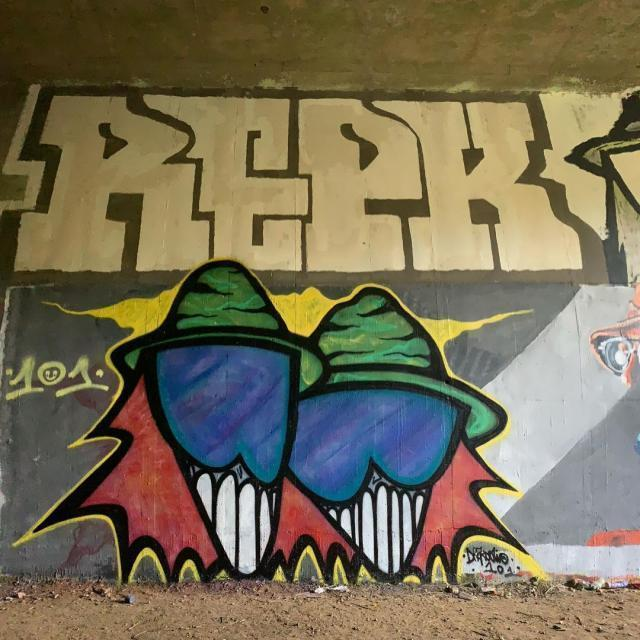nonspitting: (15, 93, 584, 274), (8, 356, 111, 399), (463, 546, 520, 577)
spitting: (17, 260, 550, 584)
